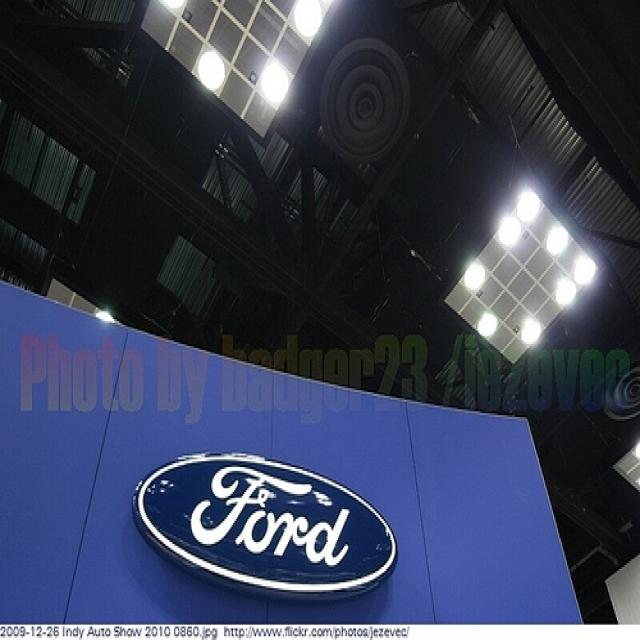ford: (132, 449, 402, 604)
